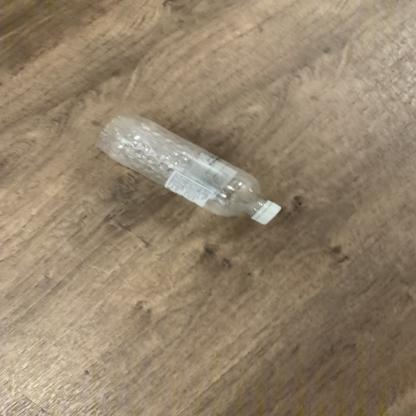trash: (94, 116, 284, 225)
